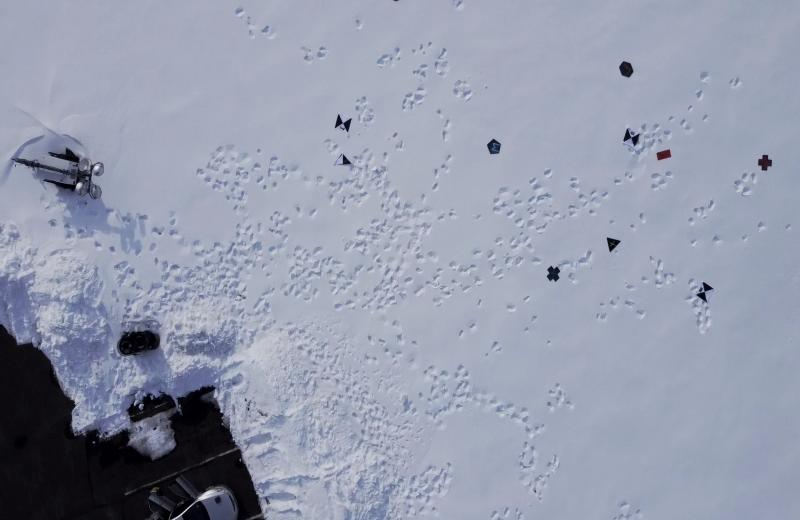Cross: (545, 264, 561, 283), (756, 154, 772, 172)
Hexagon: (618, 60, 634, 79)
Pentagon: (485, 136, 503, 157)
Rectangle: (654, 148, 672, 162)
Triangle: (605, 235, 621, 255)
